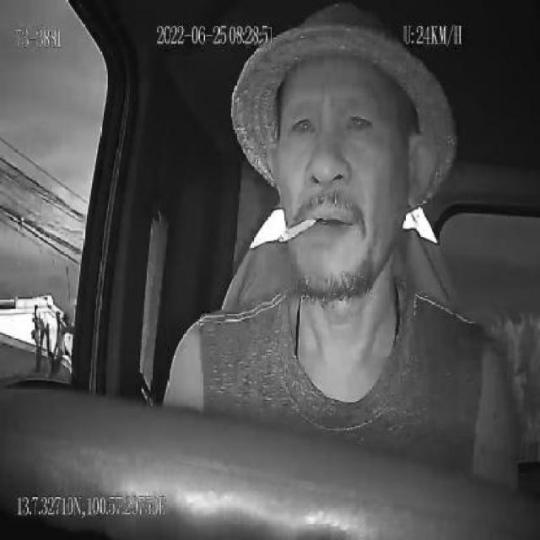smoking: (278, 214, 317, 248)
